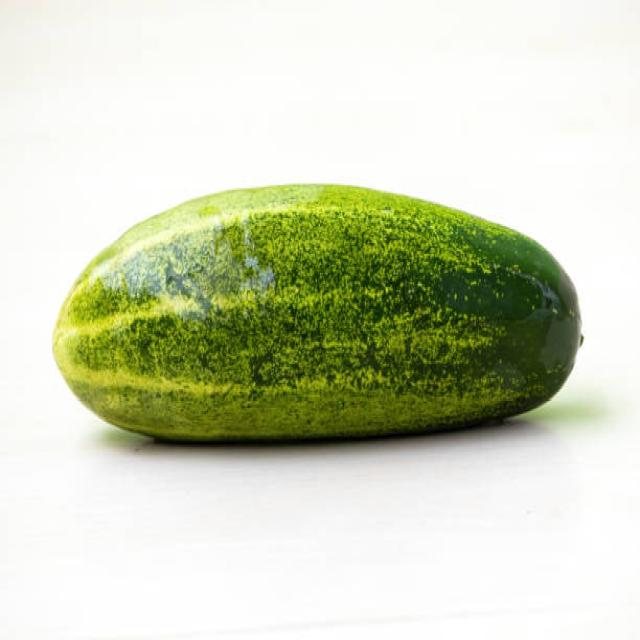cucumber: (53, 182, 580, 446)
